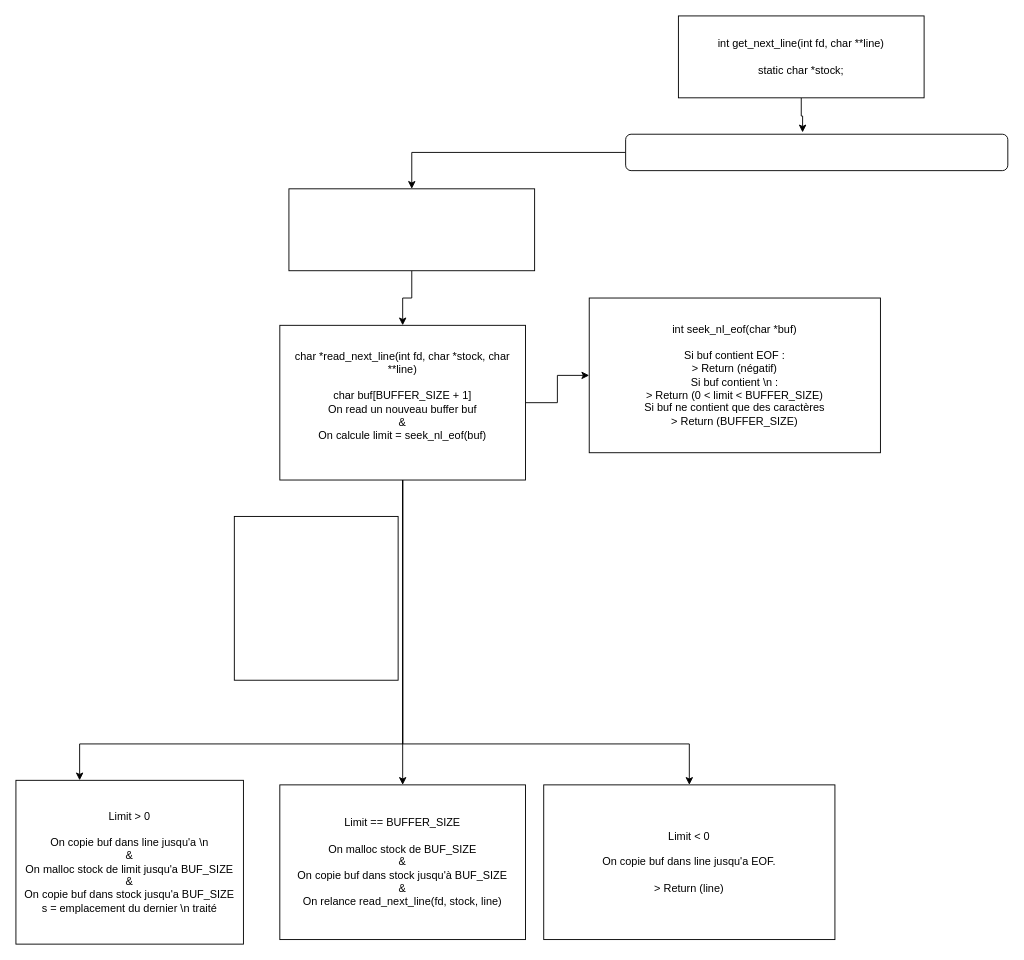
Image size: 1024x960. Some labels were removed from this diagram. The shapes that lost their labels are listed below. From the top down, each one's centre as x and y in pixels, then its label:
At (816,152): "stock[s] == ?".
At (411,229): "stock[s] == 0 On read une nouvelle ligne".
At (315,598): "stock[s] == '\n' stock = stock_cat".
